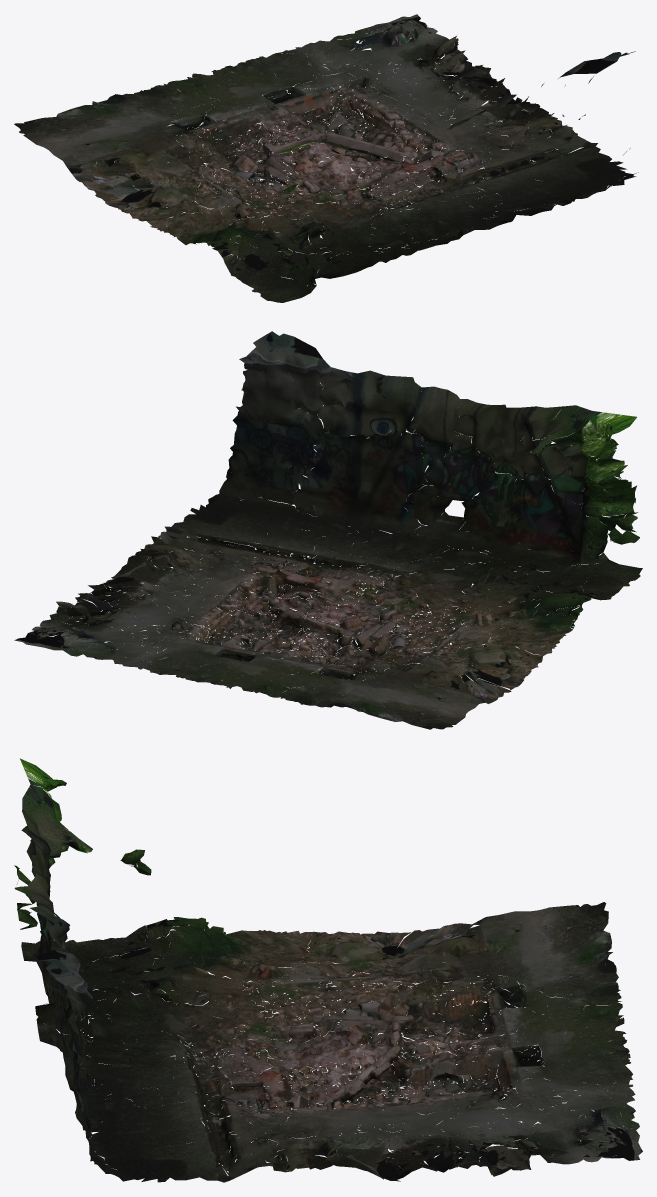
Rendered from plaster_fall.glb.
3 views of the same model, one above another, from view 1: azimuth 30°, elevation 25°; view 2: azimuth 150°, elevation 25°; view 3: azimuth 270°, elevation 25° (orthographic). The views are drawn at different scales.
Visible parts, largest first — view 1: plaster_fall; view 2: plaster_fall; view 3: plaster_fall.
Part boxes in pixels (<box>): plaster_fall: <box>14,14,638,302</box>; plaster_fall: <box>14,331,642,729</box>; plaster_fall: <box>14,758,642,1182</box>.
Size of the model in its own units: 2 by 0.7568 by 2.
1 material, 1 textured.
